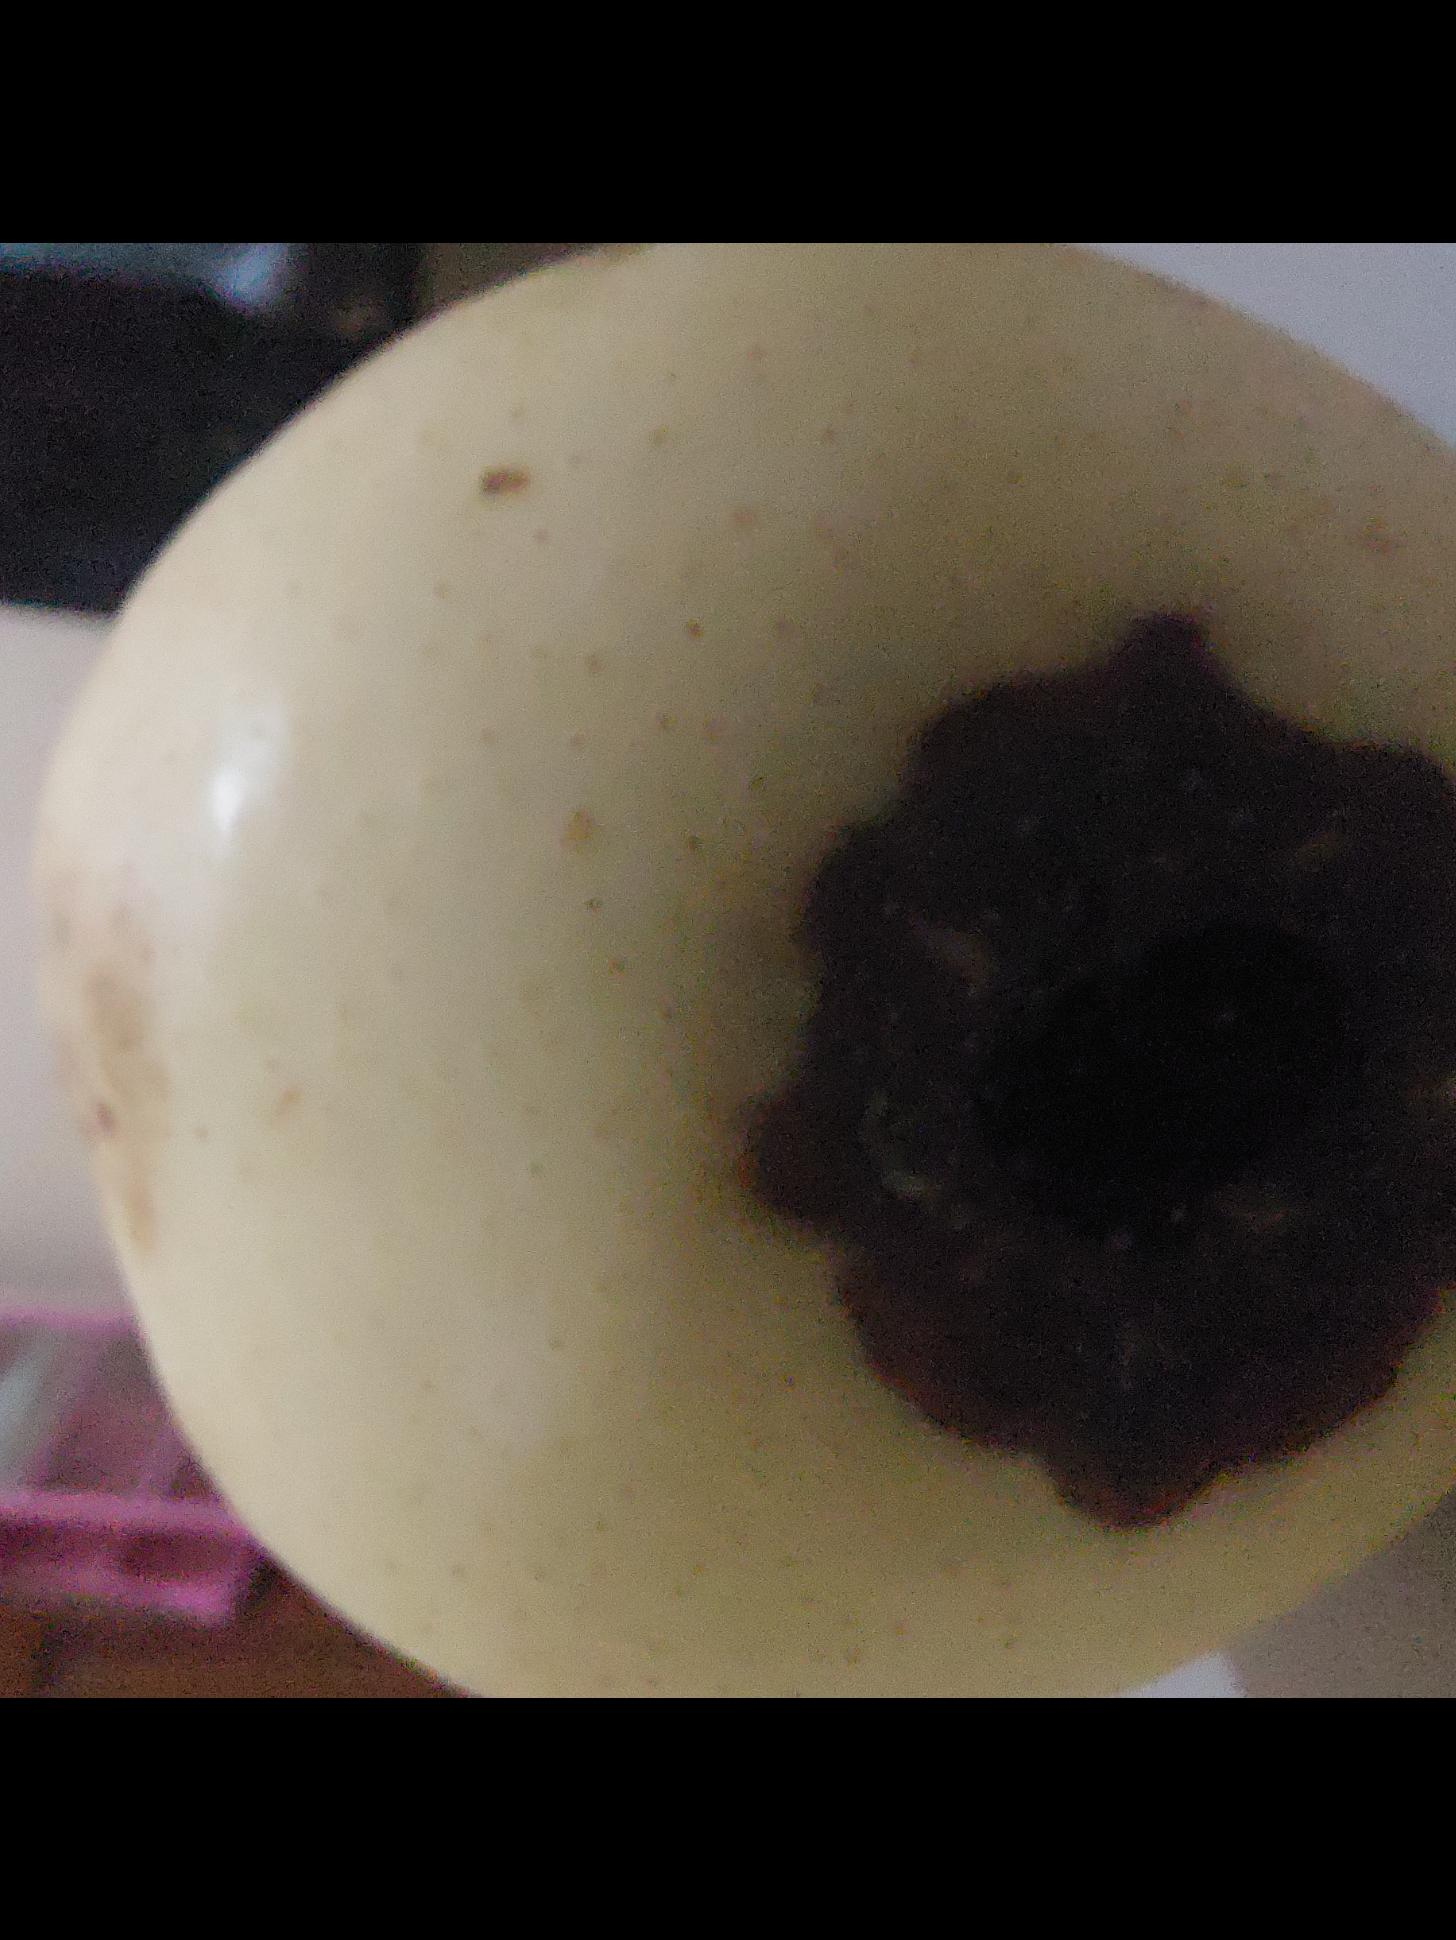Bad Pear: (11, 242, 1456, 1698)
